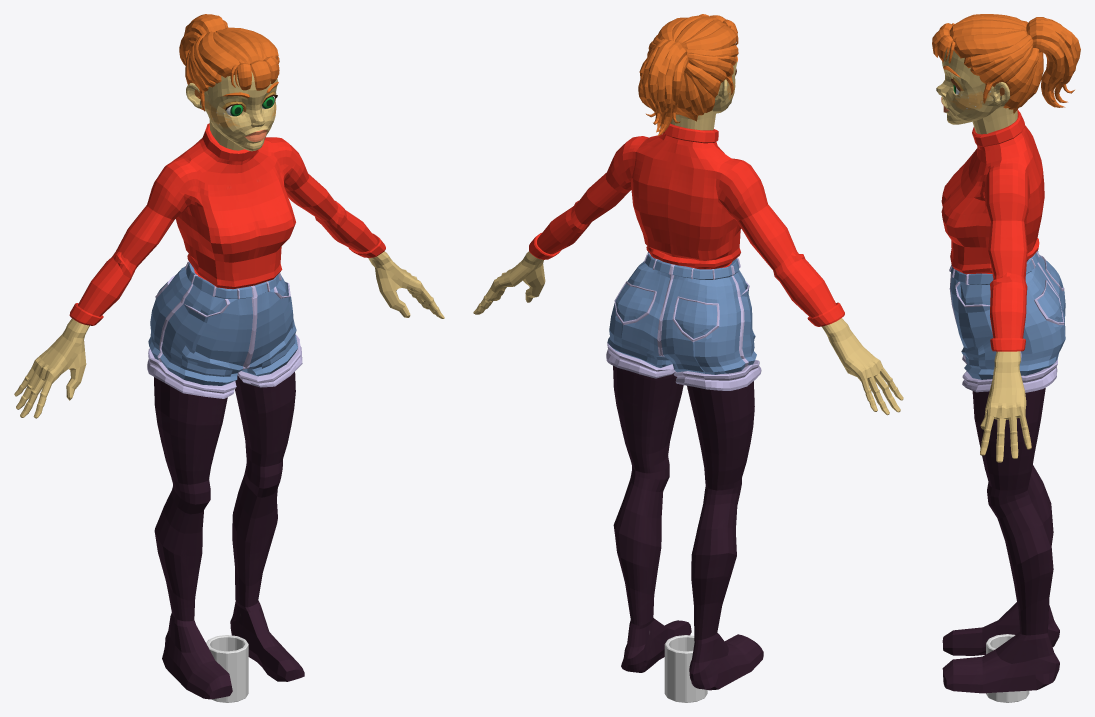
The picture shows the model from 3 angles, left to right: view 1: azimuth 30°, elevation 25°; view 2: azimuth 150°, elevation 25°; view 3: azimuth 270°, elevation 25°; orthographic projection.
Visible parts, largest first — view 1: Zi_finish_body, TempGlas; view 2: Zi_finish_body, TempGlas; view 3: Zi_finish_body, TempGlas.
Part boxes in pixels (x1,y1,x2,y2): Zi_finish_body: (14,14,444,699); TempGlas: (206,635,248,702); Zi_finish_body: (473,14,903,690); TempGlas: (664,635,707,702); Zi_finish_body: (932,14,1080,693); TempGlas: (986,634,1029,702).
Bounding box in the file's own units: 30.44 × 46.01 × 9.21.
Materials: 2 (2 with a texture image).
